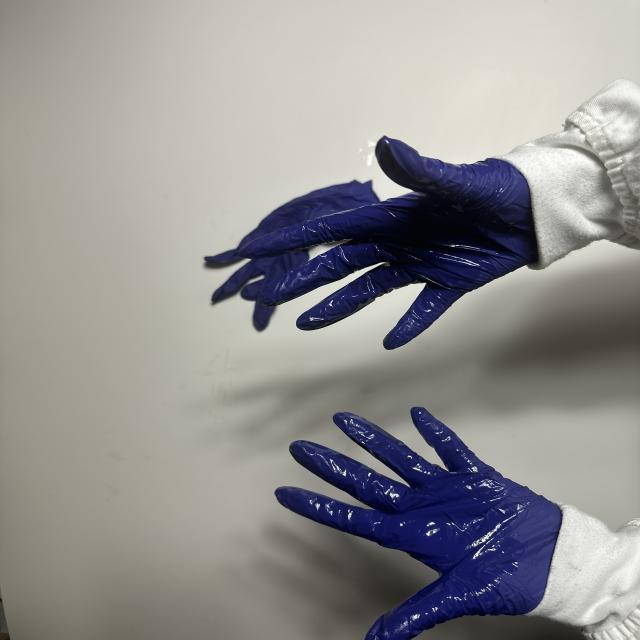gloves_contaminated: (276, 407, 561, 640), (247, 138, 537, 349)
